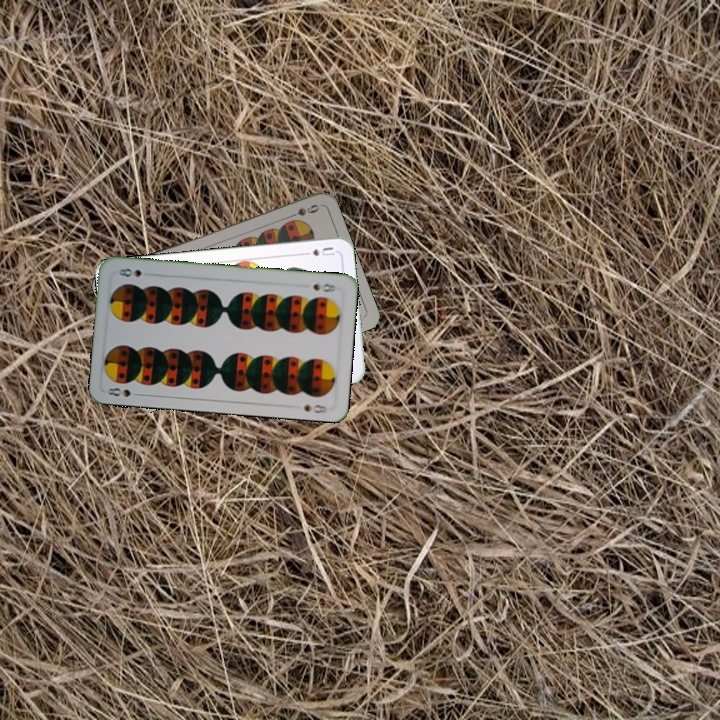S8: (103, 384, 144, 399), (309, 279, 341, 295)
S9: (283, 200, 322, 221)
SU: (297, 243, 337, 259)
